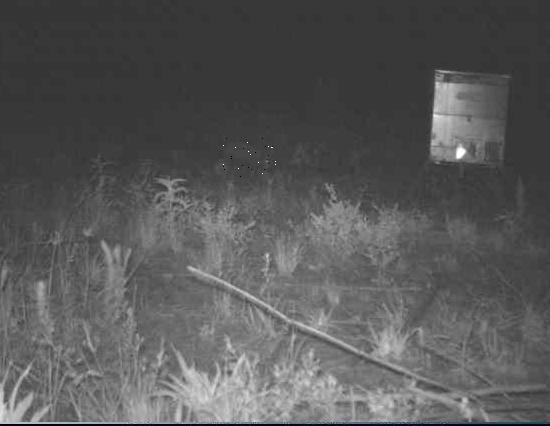Hog: (219, 138, 276, 178)
